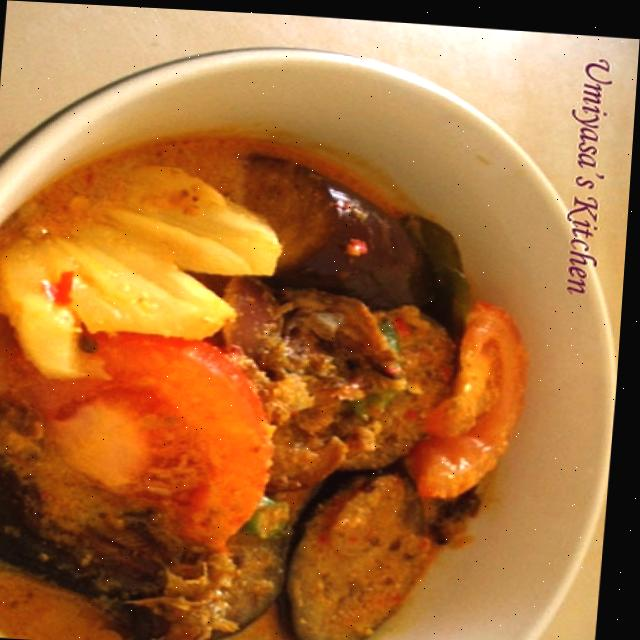熟制海鲜: (0, 46, 589, 640)
